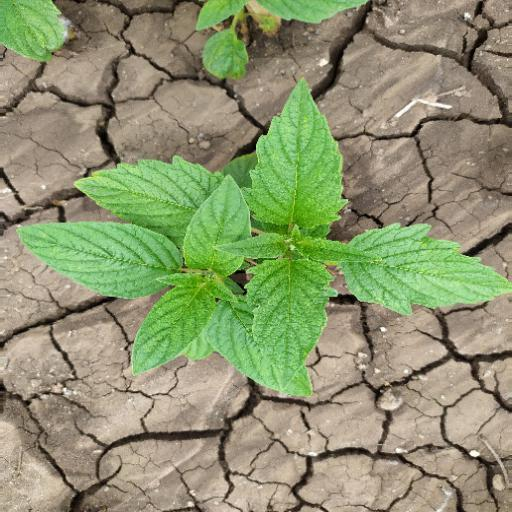crop: (15, 111, 511, 385)
